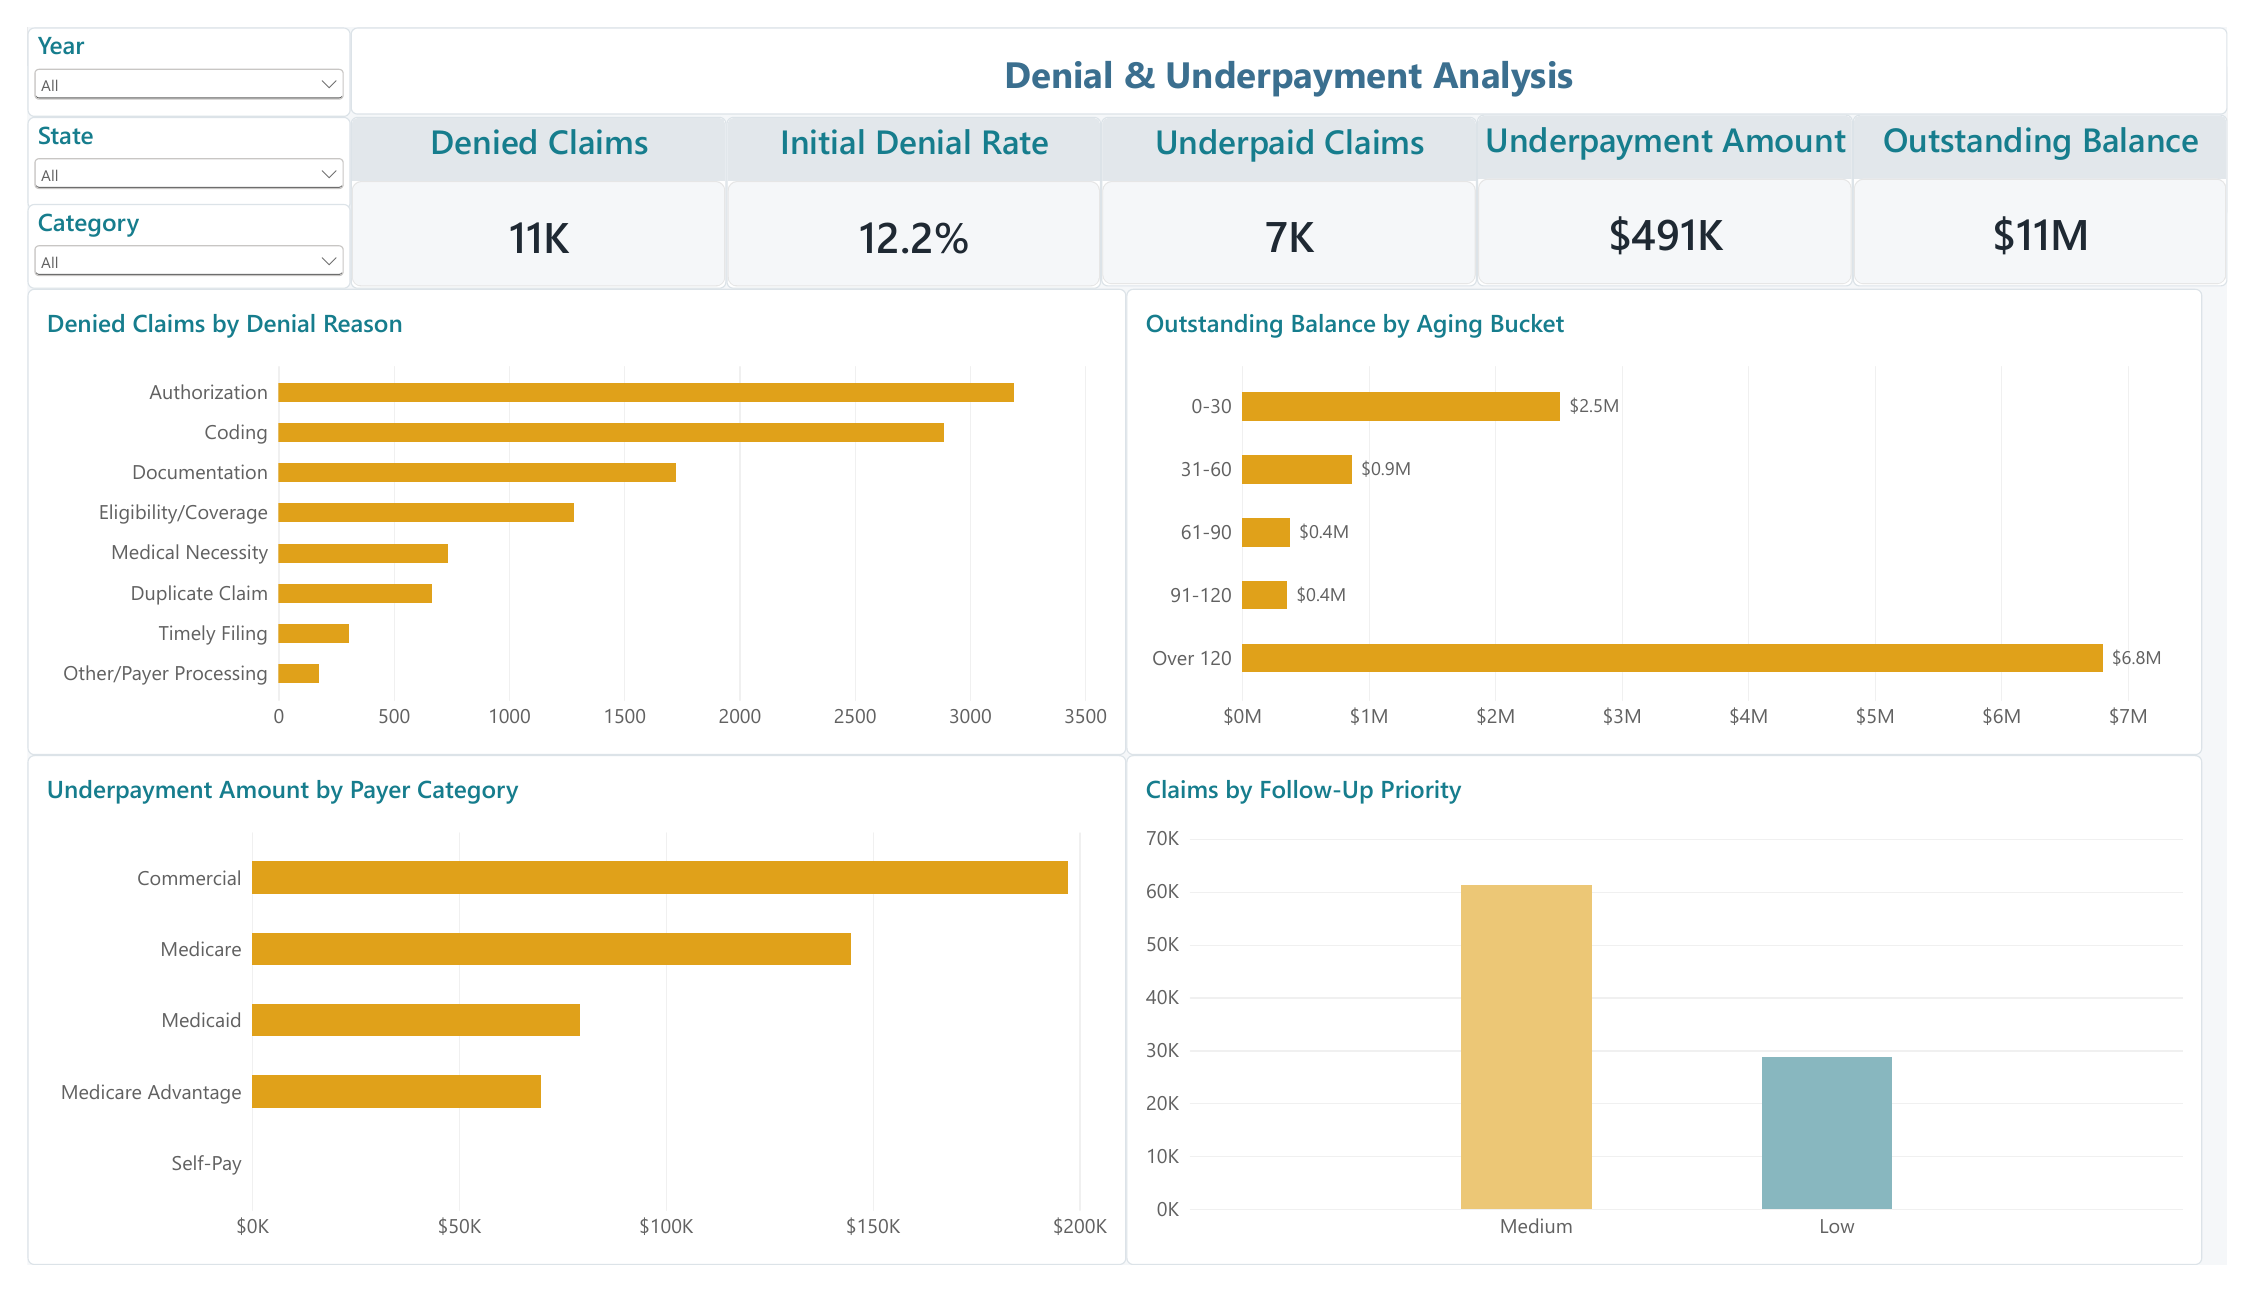

The dashboard page shown, as its layout file describes it:
{"tool":"powerbi","page":{"name":"Denial & Underpayment Analysis","canvas":[1920,1080],"ordinal":1},"visuals":[{"type":"textbox","box":[282.3,0,1637.7,76],"z":0},{"type":"cardVisual","title":"Denied Claims","fields":{"Data":["FactClaims.Denied Claims"]},"box":[282.3,77.8,327.5,150.2],"z":1000},{"type":"cardVisual","title":"Underpayment Amount","fields":{"Data":["FactClaims.Underpayment Amount"]},"box":[1265,76,327.5,150.2],"z":2000},{"type":"cardVisual","title":"Underpaid Claims","fields":{"Data":["FactClaims.Underpaid Claims"]},"box":[937.4,77.8,327.5,148.4],"z":3000},{"type":"cardVisual","title":"Outstanding Balance","fields":{"Data":["FactClaims.Outstanding Balance"]},"box":[1592.5,76,327.5,150.2],"z":4000},{"type":"cardVisual","title":"Initial Denial Rate","fields":{"Data":["FactClaims.Initial Denial Rate"]},"box":[609.9,77.8,327.5,150.2],"z":5000},{"type":"slicer","fields":{"Values":["DimDate.year"]},"box":[0,0,282.3,77.8],"z":6000},{"type":"slicer","fields":{"Values":["DimFacility.state"]},"box":[0,77.8,282.3,81.4],"z":7000},{"type":"slicer","fields":{"Values":["DimPayer.payer_category"]},"box":[0,153.8,282.3,74.2],"z":8000},{"type":"clusteredBarChart","title":"Denied Claims by Denial Reason","fields":{"Category":["FactDenials.denial_reason"],"Y":["FactClaims.Denied Claims"]},"box":[0,228,959.1,407.2],"z":9000},{"type":"clusteredBarChart","title":"Underpayment Amount by Payer Category","fields":{"Category":["DimPayer.payer_category"],"Y":["FactClaims.Underpayment Amount"]},"box":[0,635.2,959.1,445.2],"z":10000},{"type":"clusteredBarChart","title":"Outstanding Balance by Aging Bucket","fields":{"Category":["FactClaims.aging_bucket"],"Y":["FactClaims.Outstanding Balance"]},"box":[959.1,228,939.2,407.2],"z":11000},{"type":"clusteredColumnChart","title":"Claims by Follow-Up Priority","fields":{"Category":["FactClaims.follow_up_priority_band"],"Y":["FactClaims.Total Claims"]},"box":[959.1,635.2,939.2,445.2],"z":12000}]}

Visuals, with their boxes in screenshot pixels (x1, y1, x2, y2), scaled from the page's 1920x1080 canvas onto the 2255x1293 screenshot:
textbox: 332/0/2254/91
"Denied Claims" cardVisual: 332/93/716/273
"Underpayment Amount" cardVisual: 1486/91/1870/271
"Underpaid Claims" cardVisual: 1101/93/1486/271
"Outstanding Balance" cardVisual: 1870/91/2254/271
"Initial Denial Rate" cardVisual: 716/93/1101/273
slicer - DimDate.year: 0/0/332/93
slicer - DimFacility.state: 0/93/332/191
slicer - DimPayer.payer_category: 0/184/332/273
"Denied Claims by Denial Reason" clusteredBarChart: 0/273/1126/760
"Underpayment Amount by Payer Category" clusteredBarChart: 0/760/1126/1292
"Outstanding Balance by Aging Bucket" clusteredBarChart: 1126/273/2230/760
"Claims by Follow-Up Priority" clusteredColumnChart: 1126/760/2230/1292
